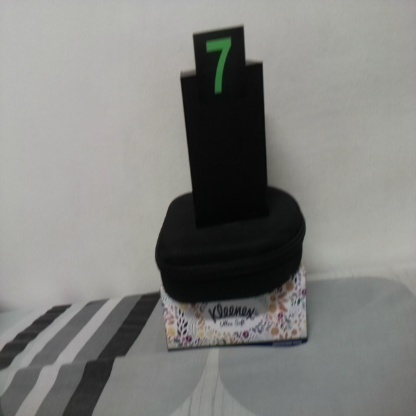id_7: (194, 33, 246, 114)
